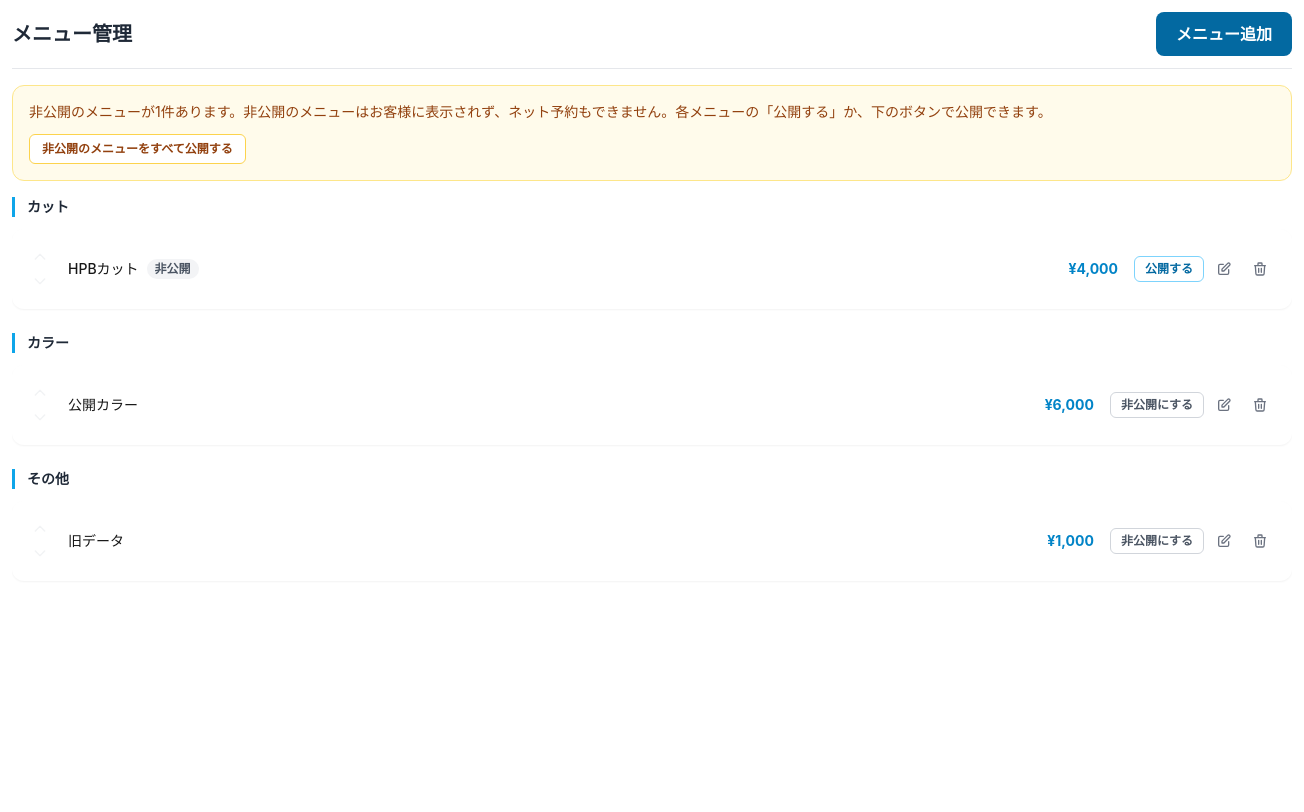
Scenario: 拒否されたらサーバーの理由を表示し、成功扱いにしない
Check: the text "HPBカット" is shown, box [68, 259, 139, 279]
Click the button with aria-label "HPBカットを公開する" at (1169, 269), box [1134, 256, 1204, 282]
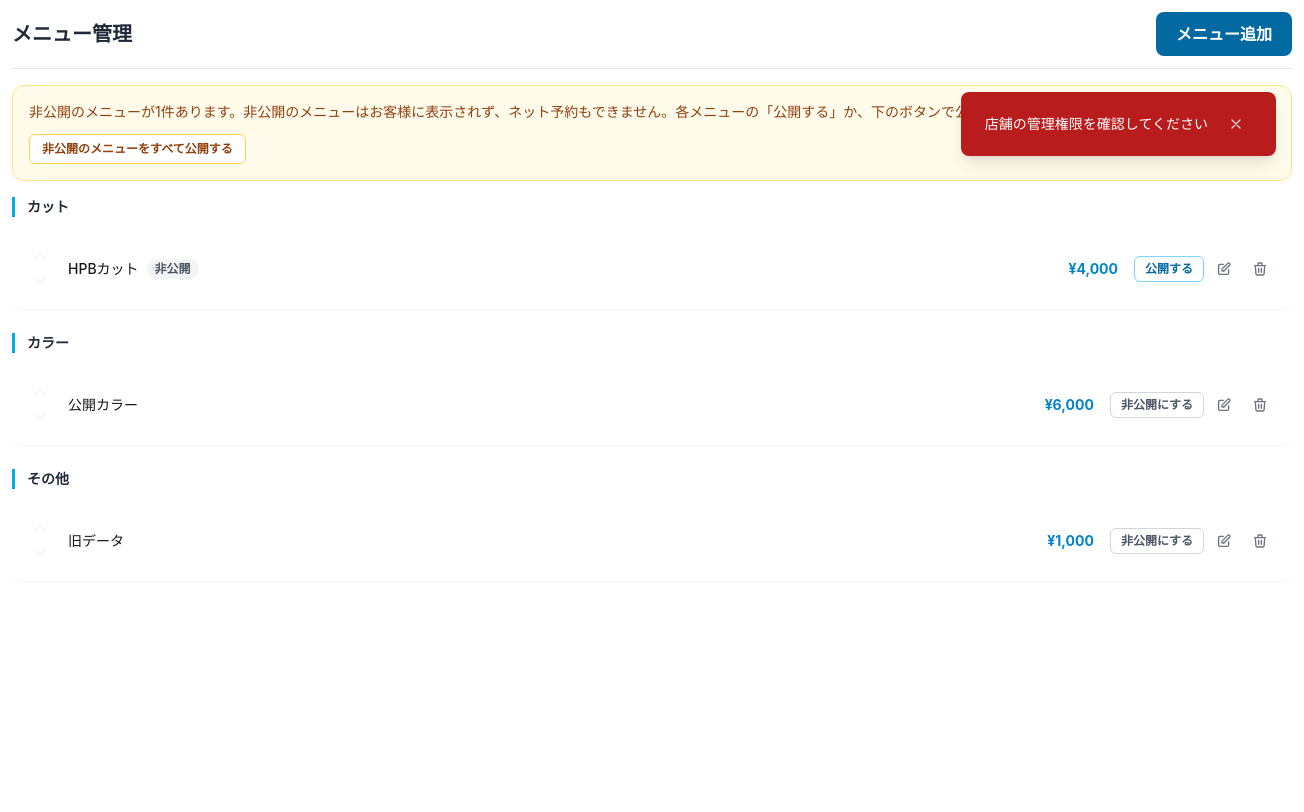
Check: the text "店舗の管理権限を確認してください" is shown, box [985, 114, 1208, 134]
